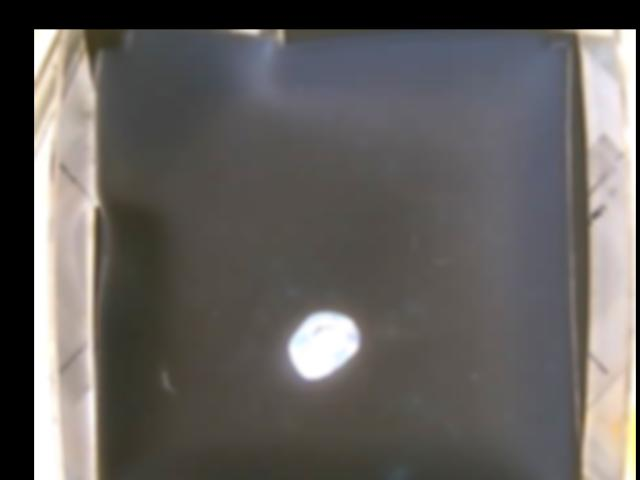Pebble: (288, 314, 364, 380)
